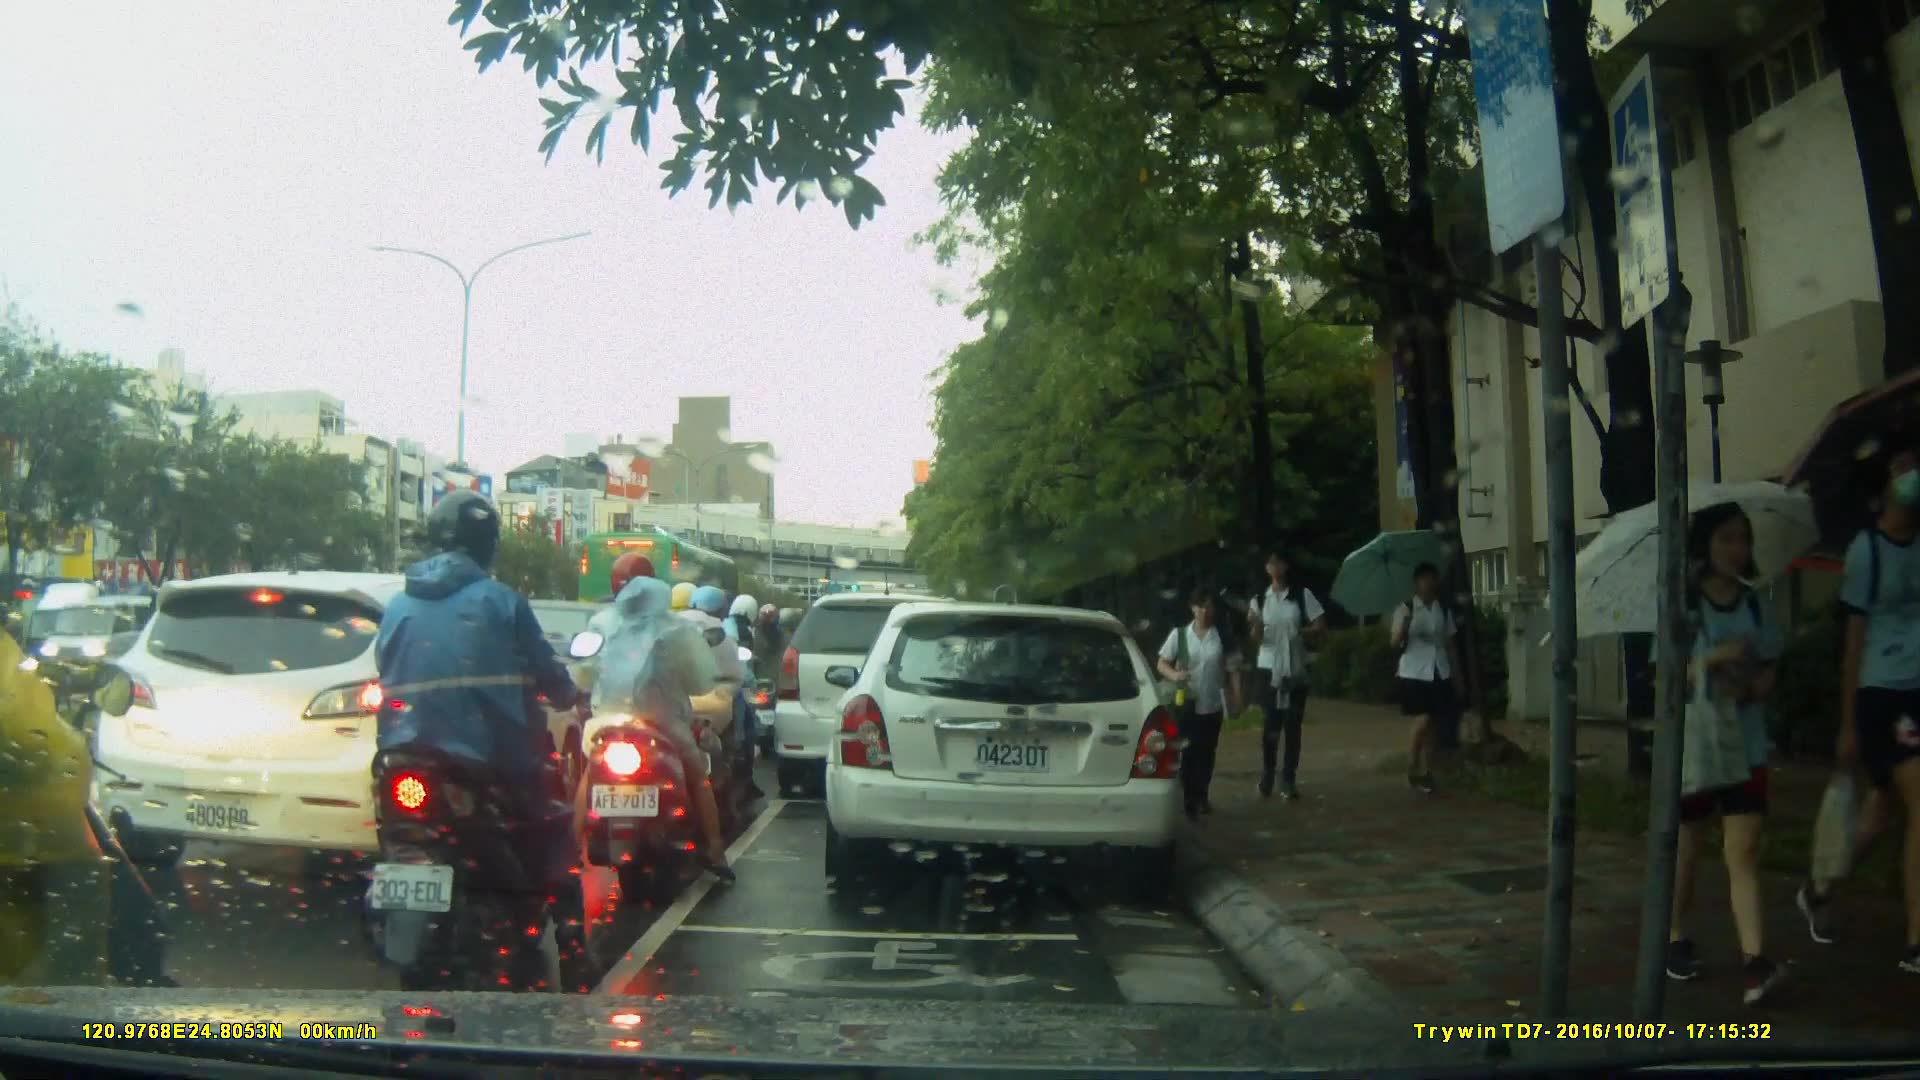pedestrian: (1614, 481, 1787, 995), (1806, 436, 1917, 989), (1235, 549, 1331, 801), (1375, 556, 1469, 799), (1149, 578, 1242, 809)
rider: (362, 485, 598, 991), (1, 455, 181, 1080), (556, 551, 746, 911), (637, 576, 765, 830), (688, 594, 773, 781)
vehicle: (93, 569, 617, 883), (822, 604, 1187, 883), (774, 595, 995, 802), (587, 531, 759, 649), (38, 593, 176, 701)
